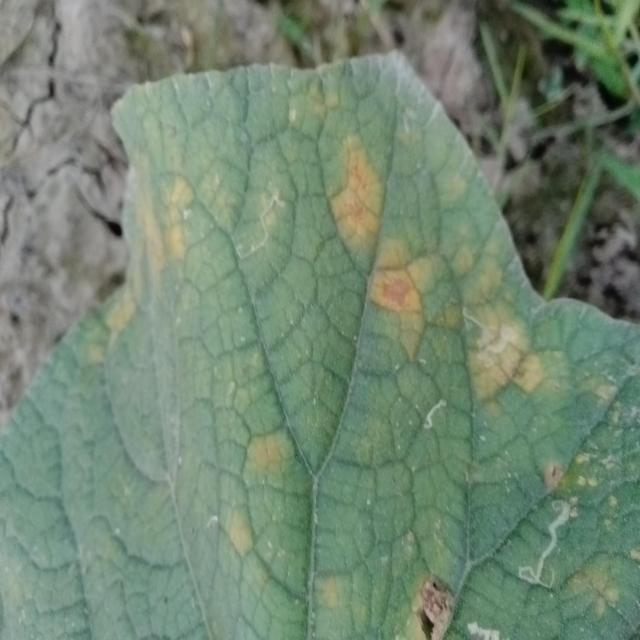cucumber_downy: (62, 70, 630, 631)
